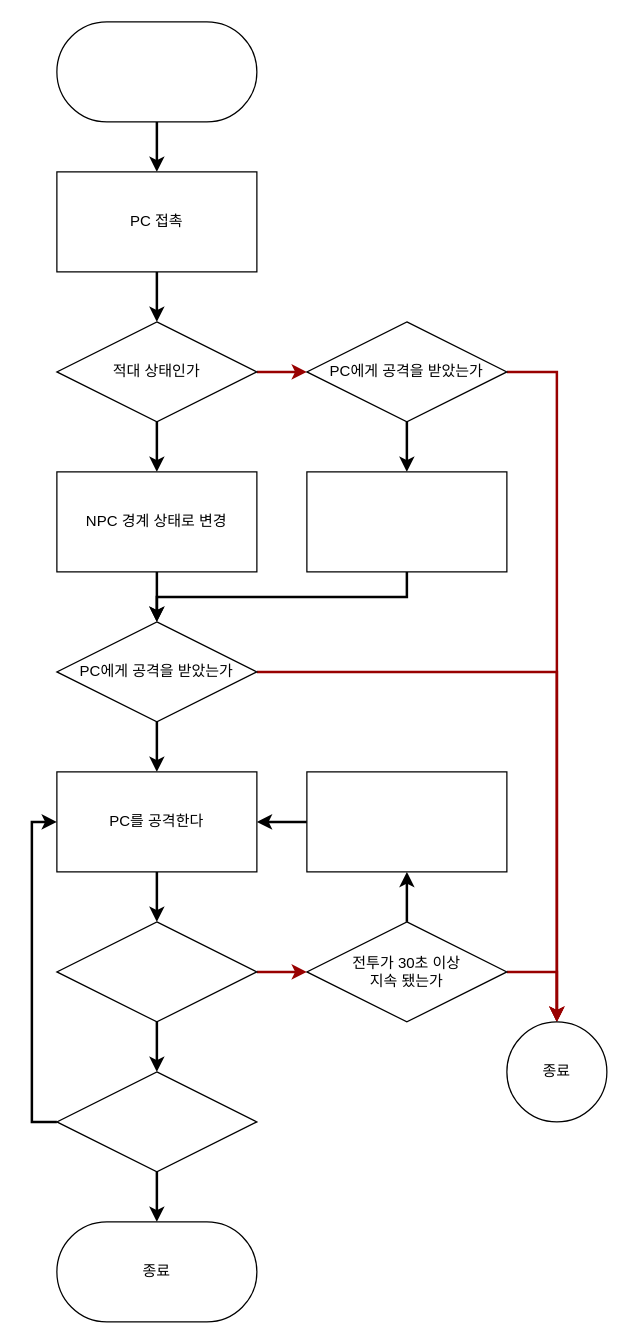
This 629x1344 diagram has some shape labels left out. Each missing label, with the centre of its shape:
"30초 동안 경계 상태가 된다." goes at pixel 406 521.
"동료 NPC 호출" goes at pixel 406 821.
"동료를 호출 했는가" goes at pixel 156 971.
"세력 우호도 NPC 반응 시작" goes at pixel 156 71.
"전투가 종료 됐는가" goes at pixel 156 1121.
